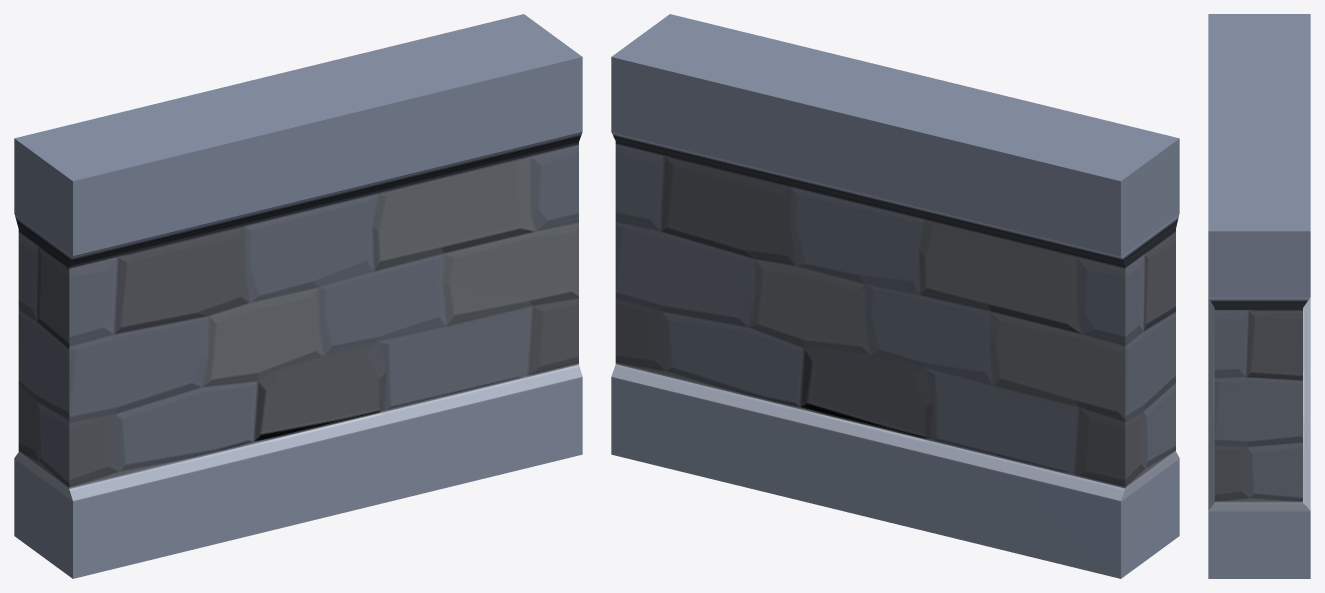
File: wall_00.FBX
3 views of the same model, side by side, from view 1: azimuth 30°, elevation 25°; view 2: azimuth 150°, elevation 25°; view 3: azimuth 270°, elevation 25° (orthographic). The views are drawn at different scales.
Visible parts, largest first — view 1: wall_00; view 2: wall_00; view 3: wall_00.
Part boxes in pixels (left/top/right/bottom): wall_00: left=14, top=14, right=582, bottom=578; wall_00: left=611, top=14, right=1179, bottom=578; wall_00: left=1208, top=14, right=1310, bottom=578.
Size of the model in its own units: 100 by 74.59 by 19.96.
